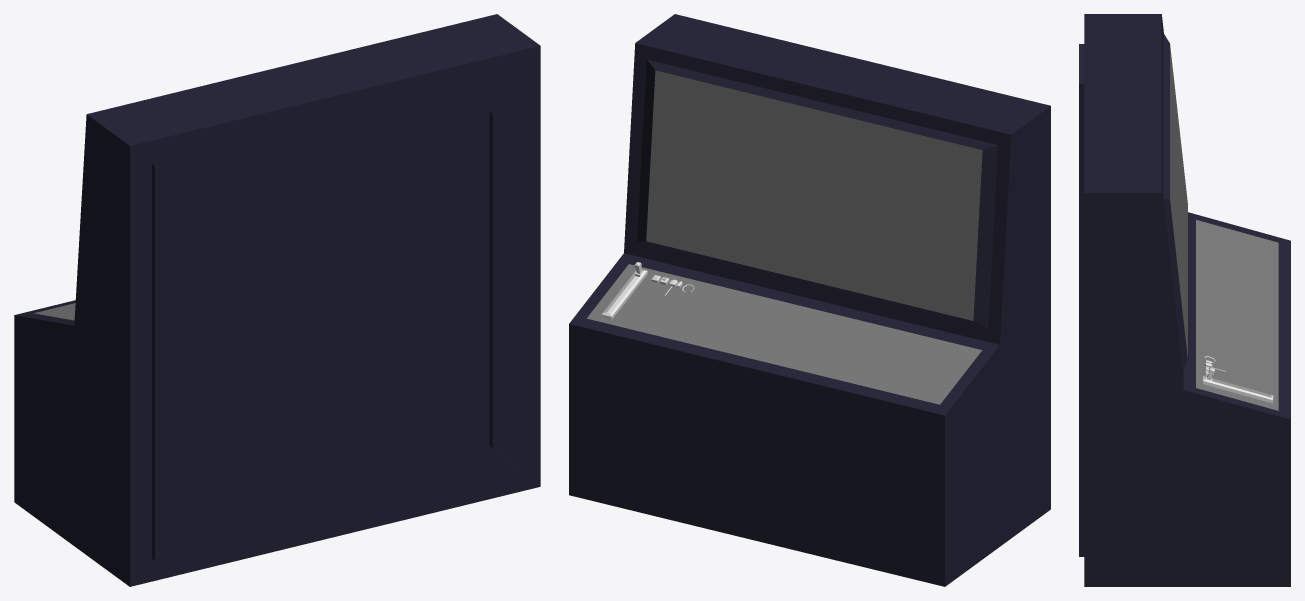
Rendered from ControlPanel.fbx.
3 views of the same model, side by side, from view 1: azimuth 30°, elevation 25°; view 2: azimuth 150°, elevation 25°; view 3: azimuth 270°, elevation 25° (orthographic). The views are drawn at different scales.
Visible parts, largest first — view 1: ControlPanel; view 2: ControlPanel, ControlSlider; view 3: ControlPanel, ControlSlider.
Part boxes in pixels (x1,y1,x2,y2): ControlPanel: [14, 14, 540, 586]; ControlPanel: [569, 14, 1050, 586]; ControlSlider: [601, 269, 647, 320]; ControlPanel: [1079, 14, 1290, 586]; ControlSlider: [1203, 376, 1273, 403].
Bounding box in the file's own units: 1.33 × 1.37 × 0.666.
